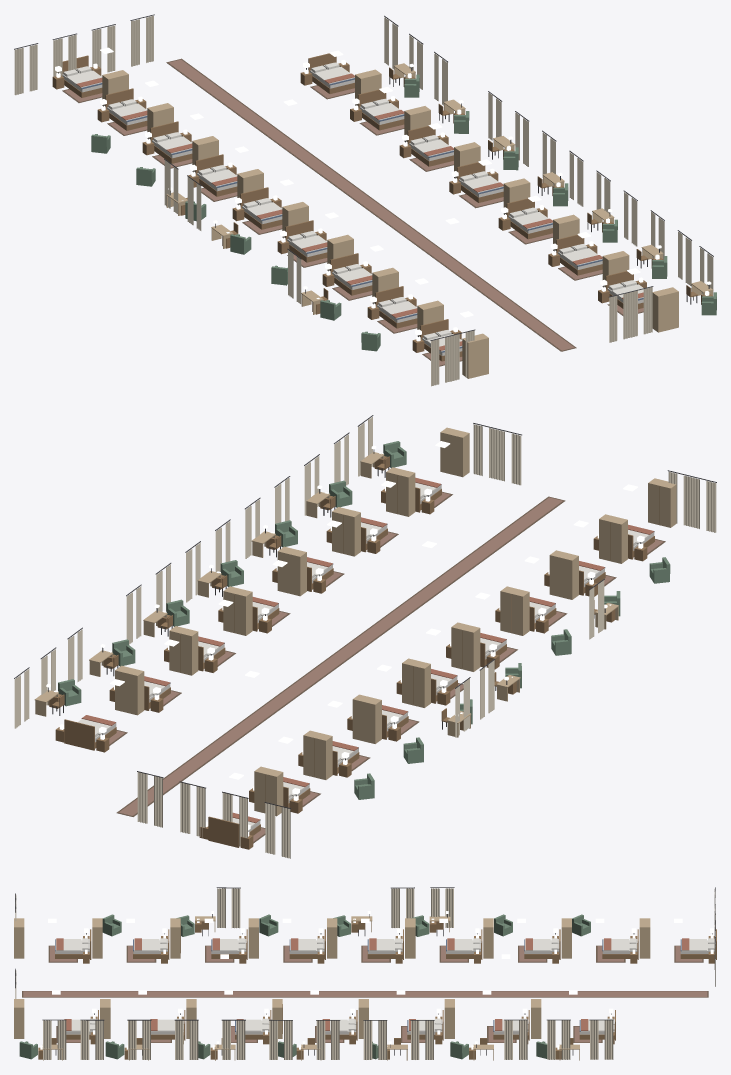
File: fine-s3.glb
The picture shows the model from 3 angles, top to bottom: view 1: azimuth 30°, elevation 25°; view 2: azimuth 150°, elevation 25°; view 3: azimuth 270°, elevation 25°; orthographic projection. The views are drawn at different scales.
Parts seen in each view (by area): view 1: soft-s3, dresser.038, dresser.047, bed-frame.035, bed-frame.037, bed-frame.033, bed-frame.032, bed-frame.034, bed-frame.036, bed-frame.043, bed-frame.040, bed-frame.041 (+7 smaller); view 2: soft-s3, dresser.045, dresser.043, dresser.040, dresser.041, dresser.044, dresser.042, dresser.032, dresser.033, dresser.046, dresser.037, dresser.038 (+7 smaller); view 3: soft-s3, dresser.039, dresser.040, dresser.041, dresser.042, dresser.043, dresser.044, dresser.045, dresser.046, dresser.047, dresser.032, dresser.033 (+19 smaller).
Boxes of the visible parts, x1,y1,x2,y2 form: soft-s3: (14, 14, 713, 386); dresser.038: (652, 287, 678, 332); dresser.047: (462, 333, 488, 378); bed-frame.035: (457, 162, 503, 202); bed-frame.037: (556, 234, 602, 275); bed-frame.033: (358, 89, 404, 130); bed-frame.032: (308, 53, 354, 93); bed-frame.034: (407, 126, 453, 166); bed-frame.036: (506, 198, 552, 239); bed-frame.043: (240, 187, 282, 229); bed-frame.040: (105, 88, 147, 130); bed-frame.041: (150, 121, 192, 163); soft-s3: (14, 415, 716, 858); dresser.045: (549, 550, 578, 599); dresser.043: (451, 622, 480, 671); dresser.040: (303, 730, 332, 779); dresser.041: (352, 694, 381, 743); dresser.044: (500, 586, 529, 635); dresser.042: (402, 658, 430, 707); dresser.032: (115, 665, 144, 715); dresser.033: (169, 626, 198, 675); dresser.046: (599, 514, 627, 563); dresser.037: (386, 467, 415, 516); dresser.038: (440, 427, 469, 477); soft-s3: (15, 887, 715, 1059); dresser.039: (639, 918, 650, 958); dresser.040: (561, 918, 571, 958); dresser.041: (483, 918, 493, 958); dresser.042: (405, 918, 415, 958); dresser.043: (327, 918, 337, 958); dresser.044: (248, 918, 258, 958); dresser.045: (170, 918, 180, 958); dresser.046: (92, 918, 102, 958); dresser.047: (14, 918, 24, 958); dresser.032: (531, 999, 541, 1038); dresser.033: (444, 999, 454, 1038).
Bounding box in the file's own units: 18.16 × 2.61 × 40.63.
